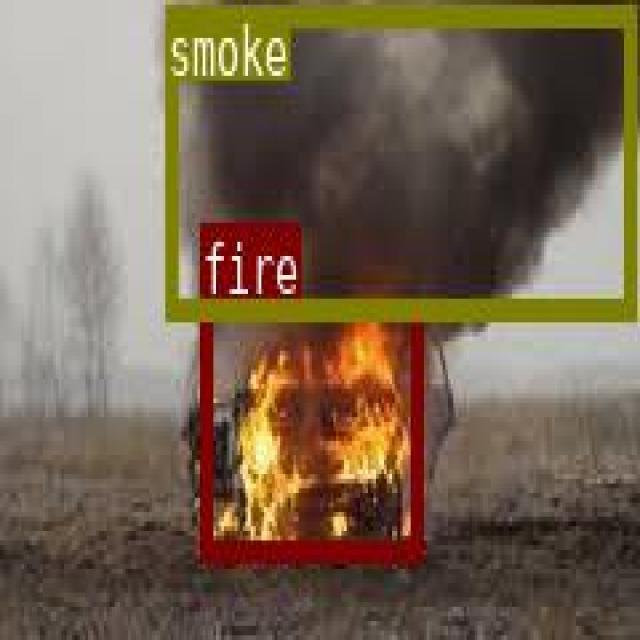fire: (199, 296, 421, 558)
smoke: (164, 4, 634, 314)
